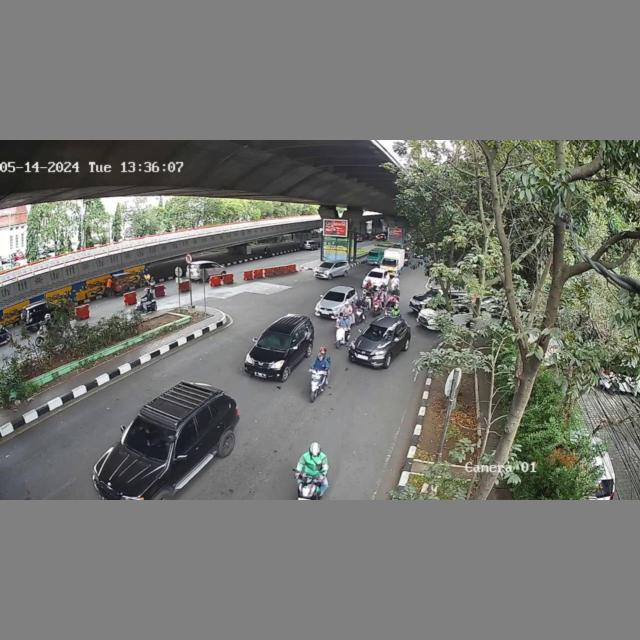windshield: (118, 415, 180, 460), (362, 322, 395, 346), (257, 331, 291, 350), (320, 289, 346, 304)
